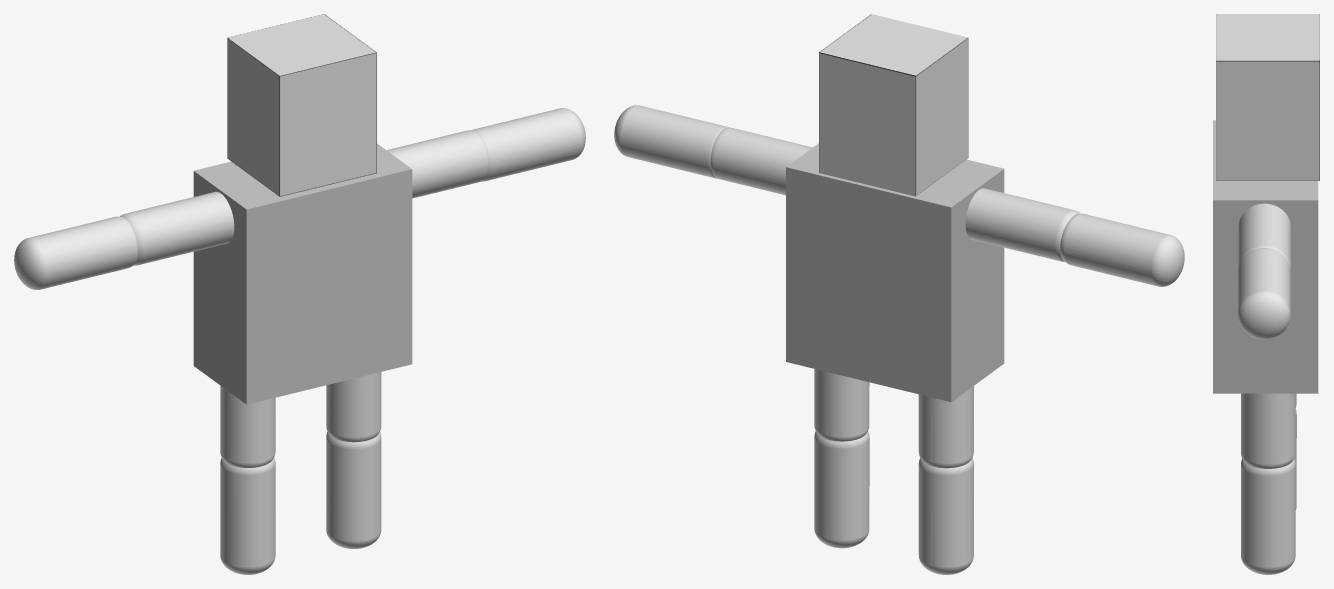
The model's file is body_new.fbx.
3 renders of one model, left to right at view 1: azimuth 30°, elevation 25°; view 2: azimuth 150°, elevation 25°; view 3: azimuth 270°, elevation 25°, orthographic.
Parts seen in each view (by area): view 1: Body, Head, Right Forearm, Right Foreleg, Left Foreleg, Right Arm, Left Forearm, Left Arm, Right Leg, Left Leg; view 2: Body, Head, Right Forearm, Left Foreleg, Right Foreleg, Right Arm, Left Forearm, Left Arm, Right Leg, Left Leg; view 3: Head, Body, Left Foreleg, Left Forearm, Left Leg, Left Arm, Right Foreleg.
Part boxes in pixels (bbox=[...]): Body: bbox=[193, 143, 412, 404]; Head: bbox=[227, 14, 376, 196]; Right Forearm: bbox=[14, 216, 137, 289]; Right Foreleg: bbox=[220, 458, 275, 574]; Left Foreleg: bbox=[326, 432, 381, 548]; Right Arm: bbox=[120, 191, 234, 265]; Left Forearm: bbox=[471, 108, 585, 181]; Left Arm: bbox=[386, 130, 488, 198]; Right Leg: bbox=[220, 385, 275, 467]; Left Leg: bbox=[326, 372, 381, 442]; Body: bbox=[786, 143, 1004, 402]; Head: bbox=[819, 14, 968, 196]; Right Forearm: bbox=[1060, 213, 1184, 286]; Left Foreleg: bbox=[814, 431, 869, 548]; Right Foreleg: bbox=[918, 458, 973, 574]; Right Arm: bbox=[965, 188, 1080, 261]; Left Forearm: bbox=[614, 105, 728, 178]; Left Arm: bbox=[710, 127, 812, 195]; Right Leg: bbox=[918, 386, 973, 468]; Left Leg: bbox=[814, 369, 869, 441]; Head: bbox=[1216, 14, 1319, 180]; Body: bbox=[1213, 120, 1318, 393]; Left Foreleg: bbox=[1241, 458, 1295, 574]; Left Forearm: bbox=[1238, 248, 1290, 339]; Left Leg: bbox=[1241, 393, 1295, 468]; Left Arm: bbox=[1238, 203, 1290, 271]; Right Foreleg: bbox=[1294, 409, 1296, 509].
Bounding box in the file's own units: 2.29 × 2 × 0.3807.
